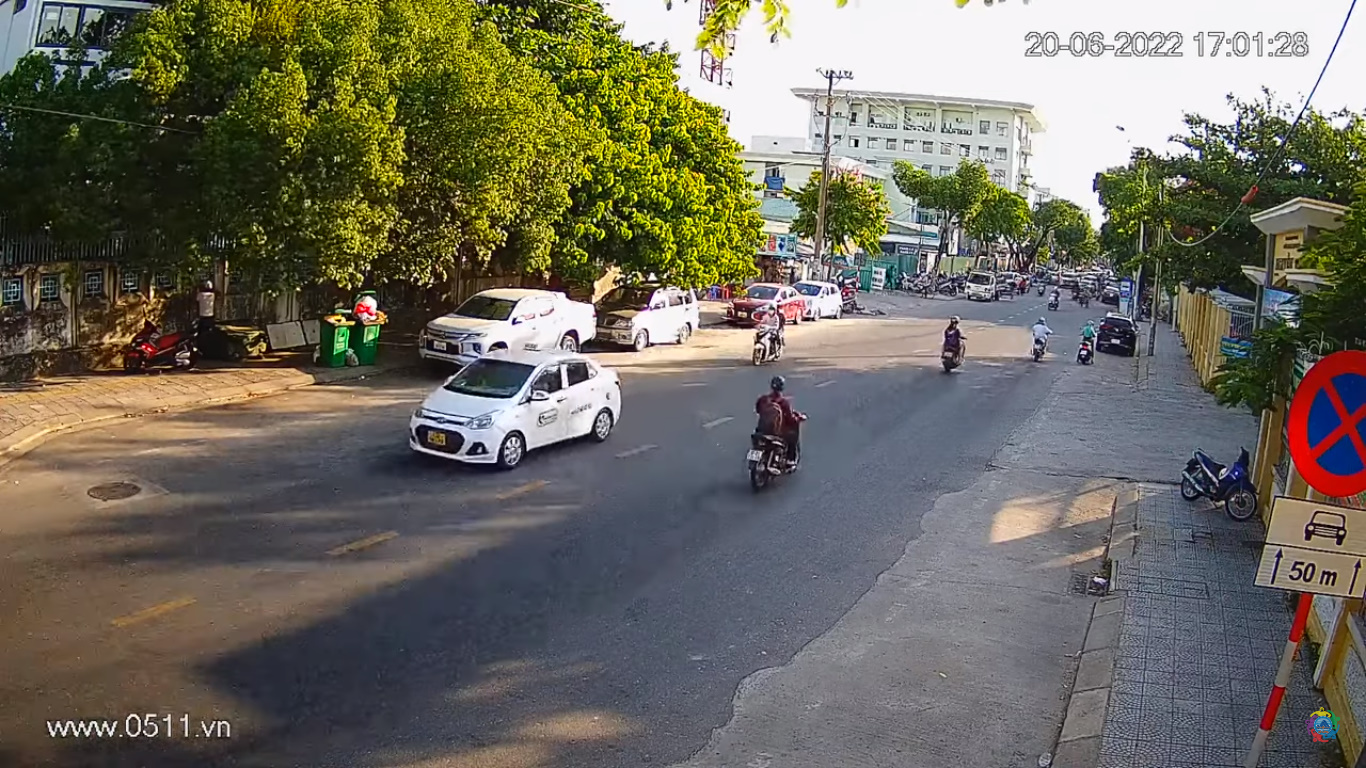car: (409, 352, 626, 476)
